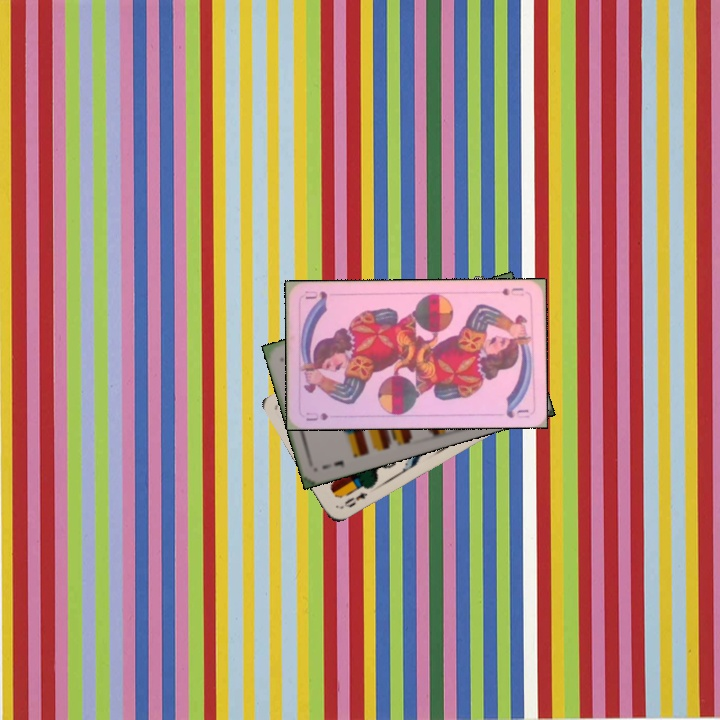E7: (318, 456, 346, 471)
EO: (336, 488, 370, 512)
SU: (302, 408, 331, 423), (497, 284, 526, 299)
